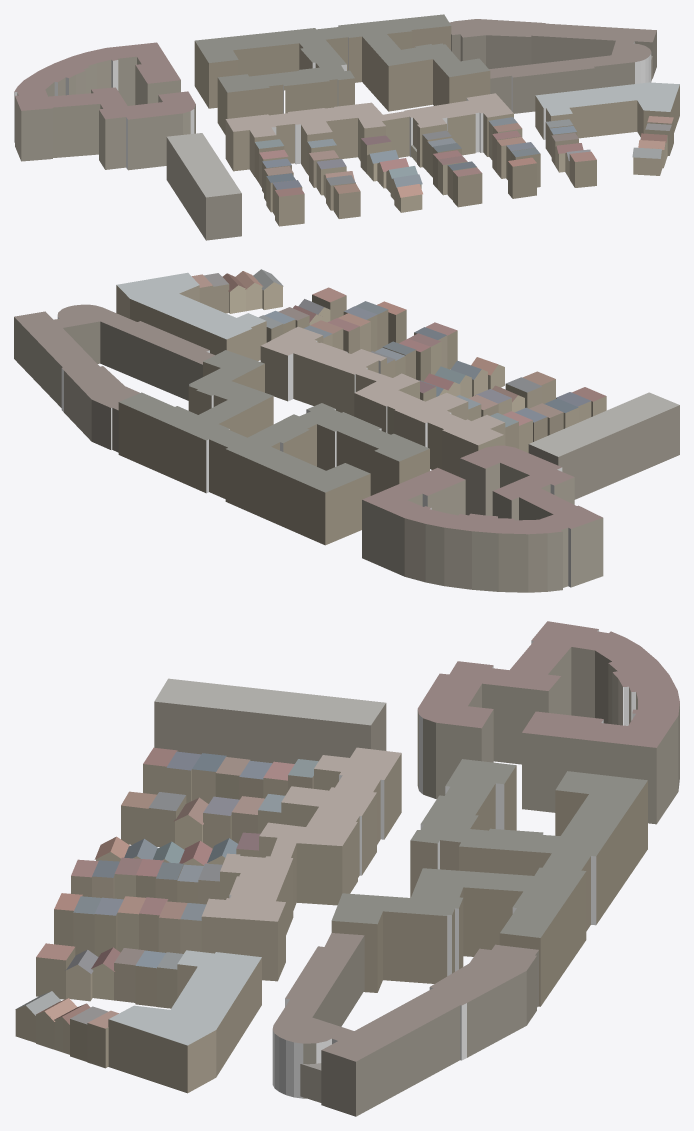
The picture shows the model from 3 angles, top to bottom: view 1: azimuth 30°, elevation 25°; view 2: azimuth 150°, elevation 25°; view 3: azimuth 270°, elevation 25°; orthographic projection. The views are drawn at different scales.
Parts seen in each view (by area): view 1: tuile; view 2: tuile; view 3: tuile.
Boxes of the visible parts, left/top/right/bottom form: tuile: left=14, top=14, right=679, bottom=240; tuile: left=14, top=269, right=679, bottom=592; tuile: left=15, top=621, right=679, bottom=1116.
Bounding box in the file's own units: 266 × 23.17 × 177.
